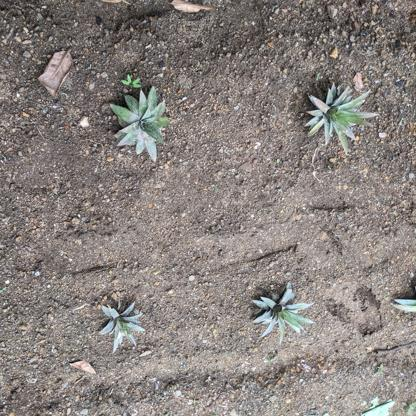pineapple: (301, 80, 379, 159), (111, 83, 173, 167), (250, 279, 318, 345), (96, 298, 148, 352)
